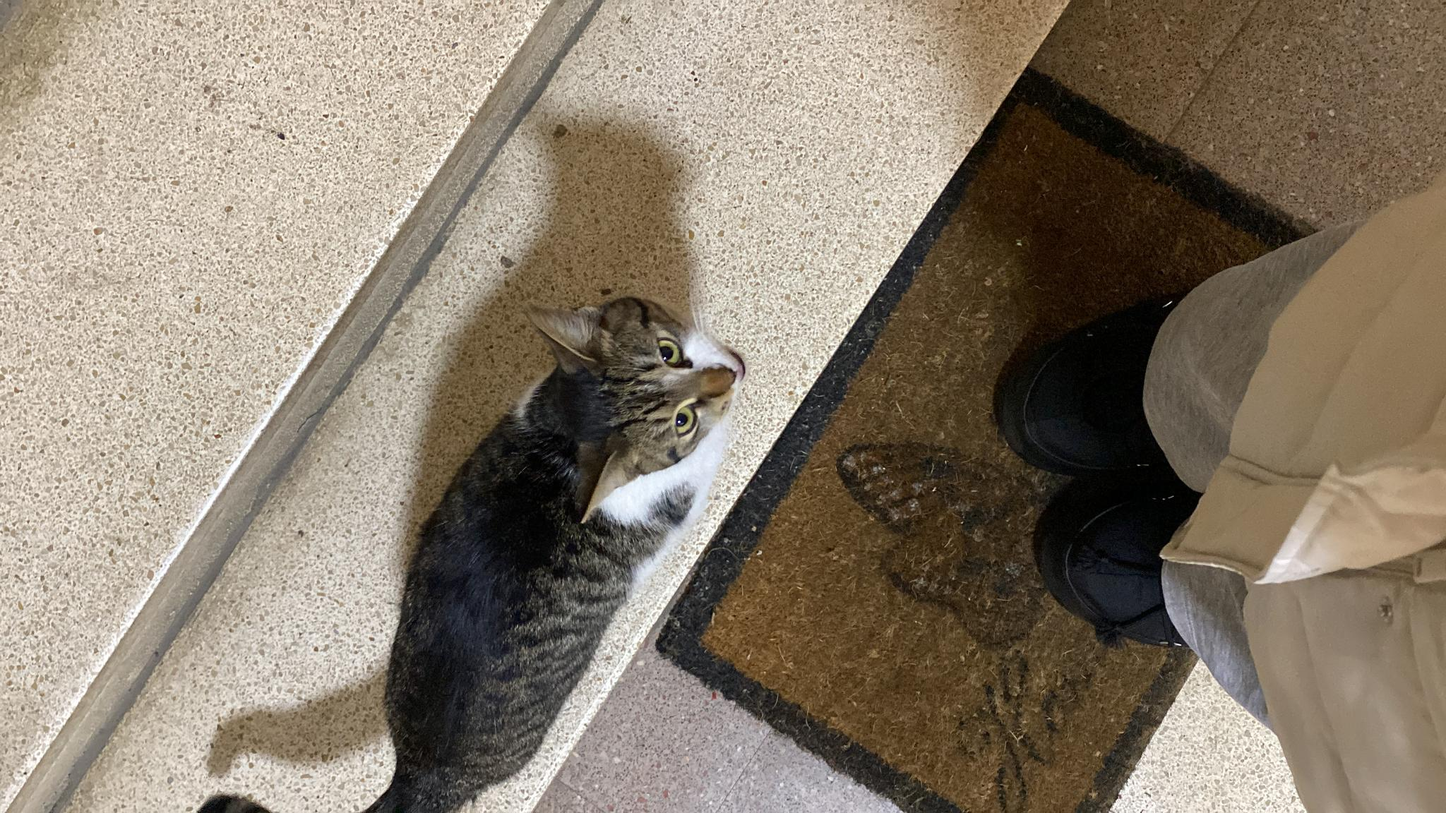macka: (0, 360, 518, 747)
